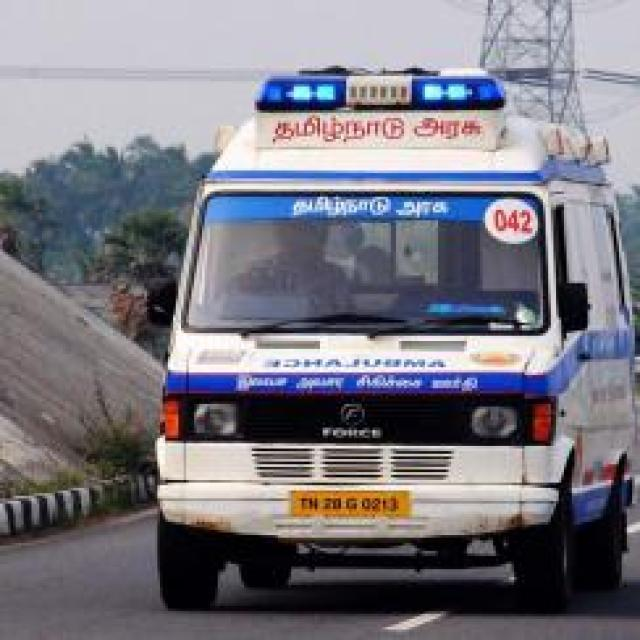Ambulance: (147, 63, 637, 614), (0, 456, 637, 637)
